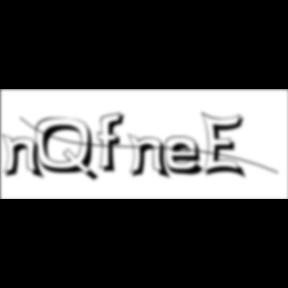E: (202, 110, 250, 182)
Q: (36, 117, 102, 184)
e: (165, 135, 211, 178)
f: (97, 111, 130, 175)
n: (1, 132, 48, 181), (128, 132, 174, 181)
